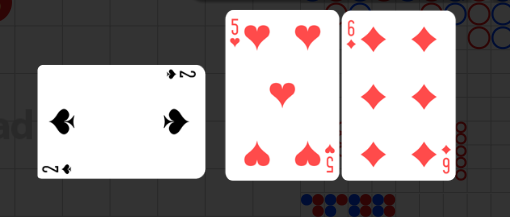2S: (41, 162, 74, 175)
5H: (228, 17, 241, 49)
6D: (440, 143, 452, 175)
